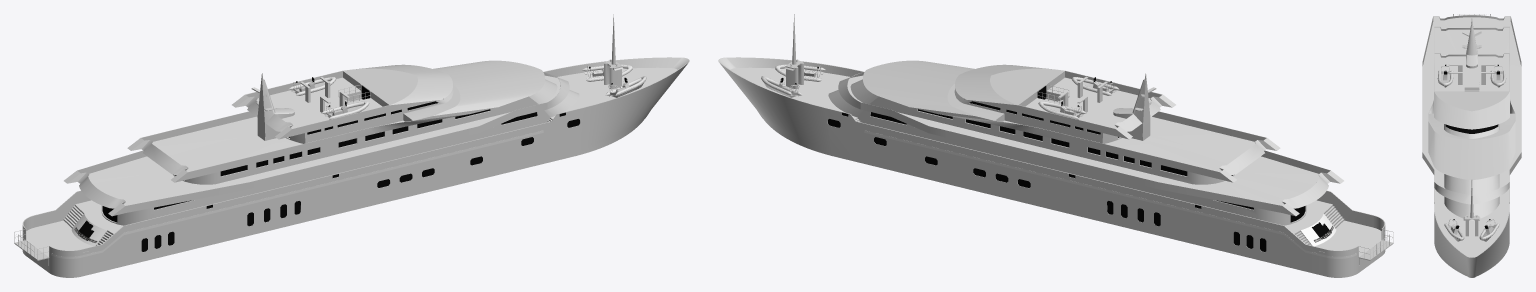
File: 90+meter+mega+yahct.fbx
3 renders of one model, left to right at view 1: azimuth 30°, elevation 25°; view 2: azimuth 150°, elevation 25°; view 3: azimuth 270°, elevation 25°, orthographic. The views are drawn at different scales.
Parts seen in each view (by area): view 1: 90+meter+mega+yahct, 90+meter+mega+yahct.002, Plane.001, 90+meter+mega+yahct.003, 90+meter+mega+yahct.005, 90+meter+mega+yahct.004; view 2: 90+meter+mega+yahct, 90+meter+mega+yahct.002, Plane.001, 90+meter+mega+yahct.004, 90+meter+mega+yahct.006, 90+meter+mega+yahct.003; view 3: 90+meter+mega+yahct, 90+meter+mega+yahct.002, 90+meter+mega+yahct.003, 90+meter+mega+yahct.004, 90+meter+mega+yahct.005, 90+meter+mega+yahct.006.
Part boxes in pixels (x1,y1,x2,y2): 90+meter+mega+yahct: (14, 14, 689, 277); 90+meter+mega+yahct.002: (14, 76, 370, 259); Plane.001: (71, 214, 106, 246); 90+meter+mega+yahct.003: (321, 101, 369, 119); 90+meter+mega+yahct.005: (606, 76, 646, 97); 90+meter+mega+yahct.004: (288, 77, 336, 95); 90+meter+mega+yahct: (718, 14, 1393, 277); 90+meter+mega+yahct.002: (1037, 76, 1393, 259); Plane.001: (1301, 214, 1336, 246); 90+meter+mega+yahct.004: (1038, 101, 1086, 119); 90+meter+mega+yahct.006: (761, 76, 801, 97); 90+meter+mega+yahct.003: (1071, 77, 1119, 95); 90+meter+mega+yahct: (1422, 15, 1521, 277); 90+meter+mega+yahct.002: (1448, 14, 1495, 90); 90+meter+mega+yahct.003: (1437, 64, 1453, 87); 90+meter+mega+yahct.004: (1490, 64, 1506, 87); 90+meter+mega+yahct.005: (1444, 219, 1464, 241); 90+meter+mega+yahct.006: (1479, 219, 1499, 241).
Bounding box in the file's own units: 77.93 × 15.34 × 12.6.
